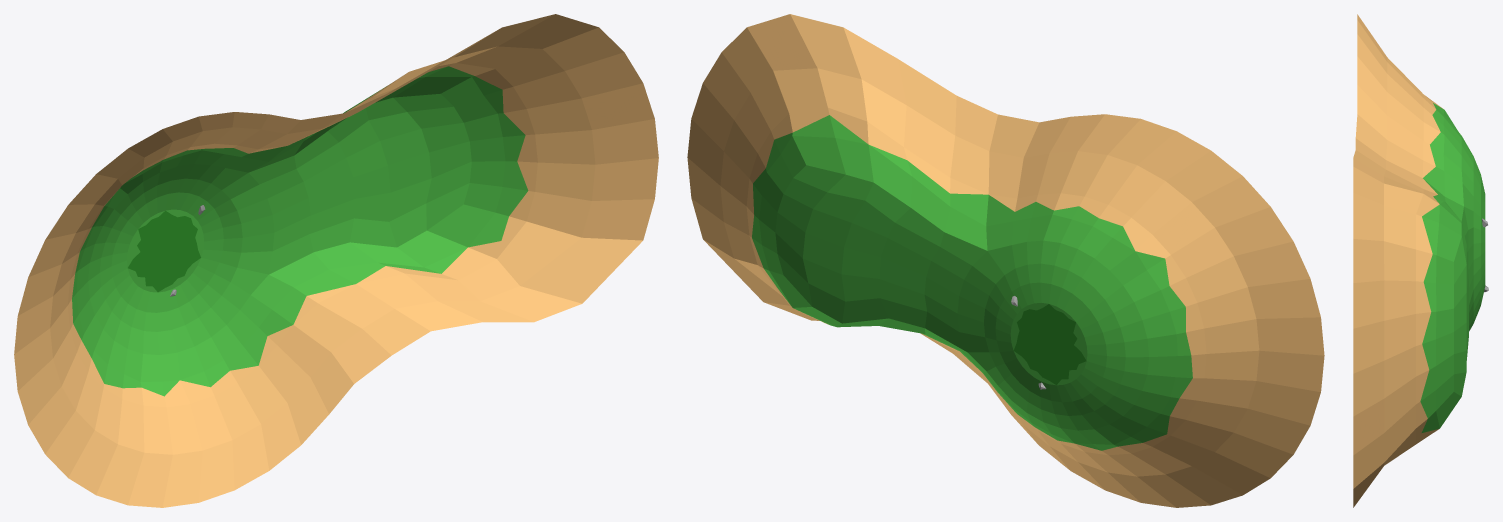
The model's file is Isla_Modelo.fbx.
3 renders of one model, left to right at view 1: azimuth 30°, elevation 25°; view 2: azimuth 150°, elevation 25°; view 3: azimuth 270°, elevation 25°, orthographic. The views are drawn at different scales.
Parts seen in each view (by area): view 1: Island; view 2: Island; view 3: Island.
Boxes of the visible parts, box(x1,y1,x2,y2) form: Island: box(14, 14, 658, 507); Island: box(687, 14, 1324, 507); Island: box(1353, 14, 1488, 507).
Bounding box in the file's own units: 5580 × 3349 × 1000.
